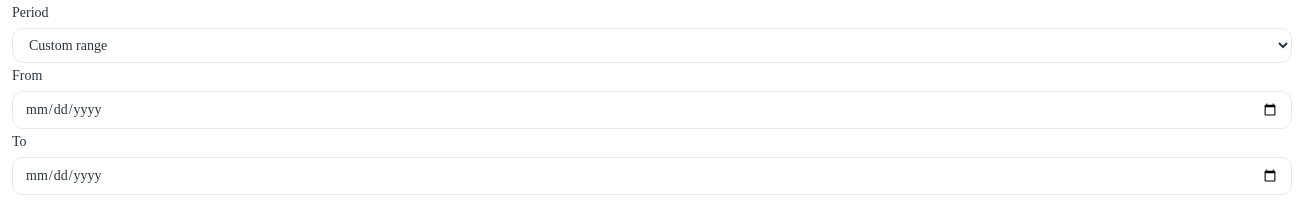
Scenario: DateRangeControls (V6 audit S1/S14) › F9 (V5): To cannot precede From
Type "2026-03-10" into the date field labelled "From" at point(652, 110), box [12, 91, 1292, 129]
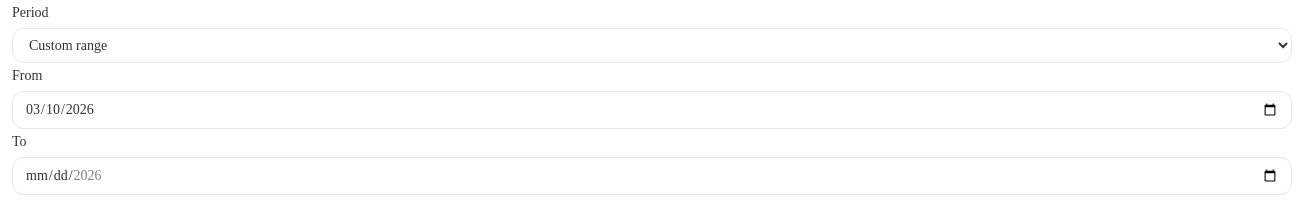
Result: the date field labelled "To" has attribute min="2026-03-10" at [12, 157, 1292, 195]
